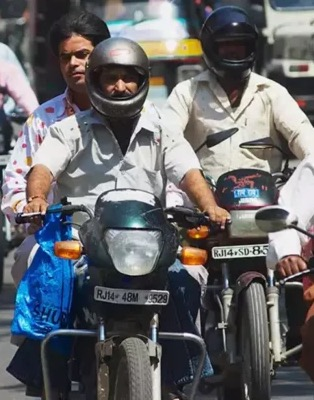motor: (20, 195, 206, 399), (177, 165, 312, 398)
no helmet: (53, 14, 115, 86)
number: (93, 283, 169, 305), (211, 240, 289, 259)
with helmet: (85, 37, 149, 116), (200, 6, 261, 81)
